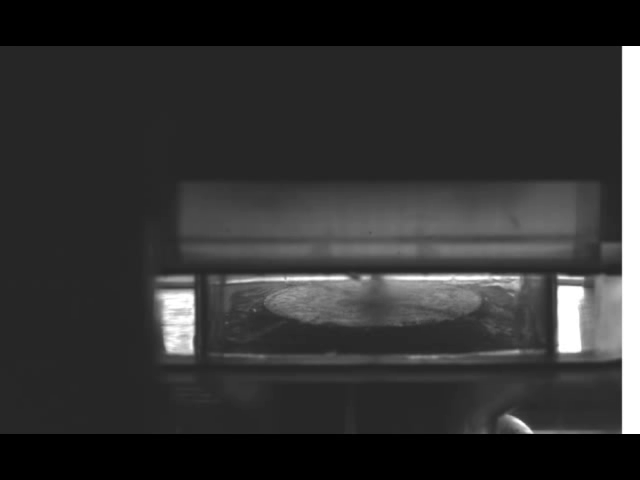Zona de teste: (258, 279, 480, 326)
